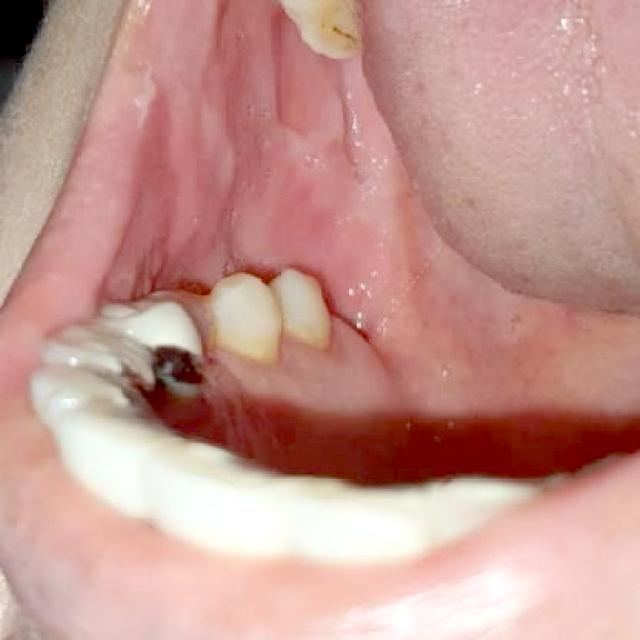Plaque: (315, 9, 359, 50)
